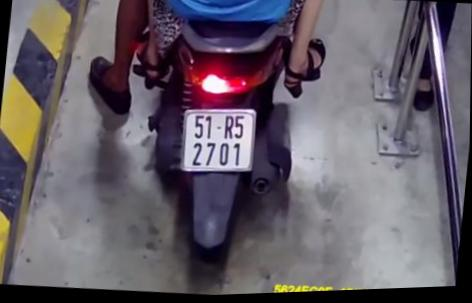LP: (178, 103, 262, 178)
